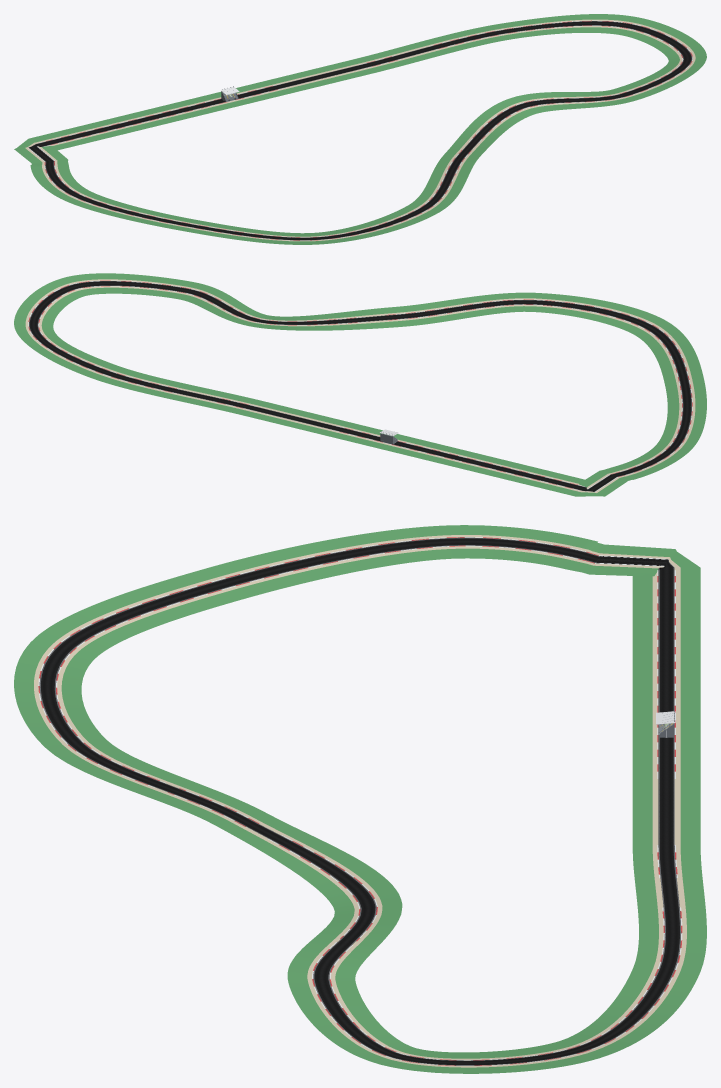
File: track_environment_suite.glb
3 renders of one model, top to bottom at view 1: azimuth 30°, elevation 25°; view 2: azimuth 150°, elevation 25°; view 3: azimuth 270°, elevation 25°, orthographic. The views are drawn at different scales.
Visible parts, largest first — view 1: Track_Verge_Grass-col, Track_Asphalt_Ribbon-col, Track_Runoff_Gravel-col, Track_Curb_Sawtooth_L-col, Track_Curb_Sawtooth_R-col; view 2: Track_Verge_Grass-col, Track_Asphalt_Ribbon-col, Track_Runoff_Gravel-col, Track_Curb_Sawtooth_L-col, Track_Curb_Sawtooth_R-col; view 3: Track_Verge_Grass-col, Track_Asphalt_Ribbon-col, Track_Runoff_Gravel-col, Track_Curb_Sawtooth_L-col, Track_Curb_Sawtooth_R-col.
Boxes of the visible parts, bbox=[...] form: Track_Verge_Grass-col: bbox=[14, 14, 706, 244]; Track_Asphalt_Ribbon-col: bbox=[28, 21, 692, 240]; Track_Runoff_Gravel-col: bbox=[25, 19, 695, 241]; Track_Curb_Sawtooth_L-col: bbox=[28, 20, 692, 240]; Track_Curb_Sawtooth_R-col: bbox=[37, 25, 683, 237]; Track_Verge_Grass-col: bbox=[14, 273, 706, 496]; Track_Asphalt_Ribbon-col: bbox=[29, 281, 691, 491]; Track_Runoff_Gravel-col: bbox=[25, 279, 695, 492]; Track_Curb_Sawtooth_L-col: bbox=[28, 280, 692, 491]; Track_Curb_Sawtooth_R-col: bbox=[38, 286, 682, 489]; Track_Verge_Grass-col: bbox=[14, 525, 706, 1073]; Track_Asphalt_Ribbon-col: bbox=[39, 537, 681, 1065]; Track_Runoff_Gravel-col: bbox=[34, 535, 686, 1067]; Track_Curb_Sawtooth_L-col: bbox=[38, 537, 682, 1065]; Track_Curb_Sawtooth_R-col: bbox=[56, 545, 664, 1060].
Size of what is drawn, in the model's own units: 1431 by 23.29 by 763.
32 materials, 5 textured.
